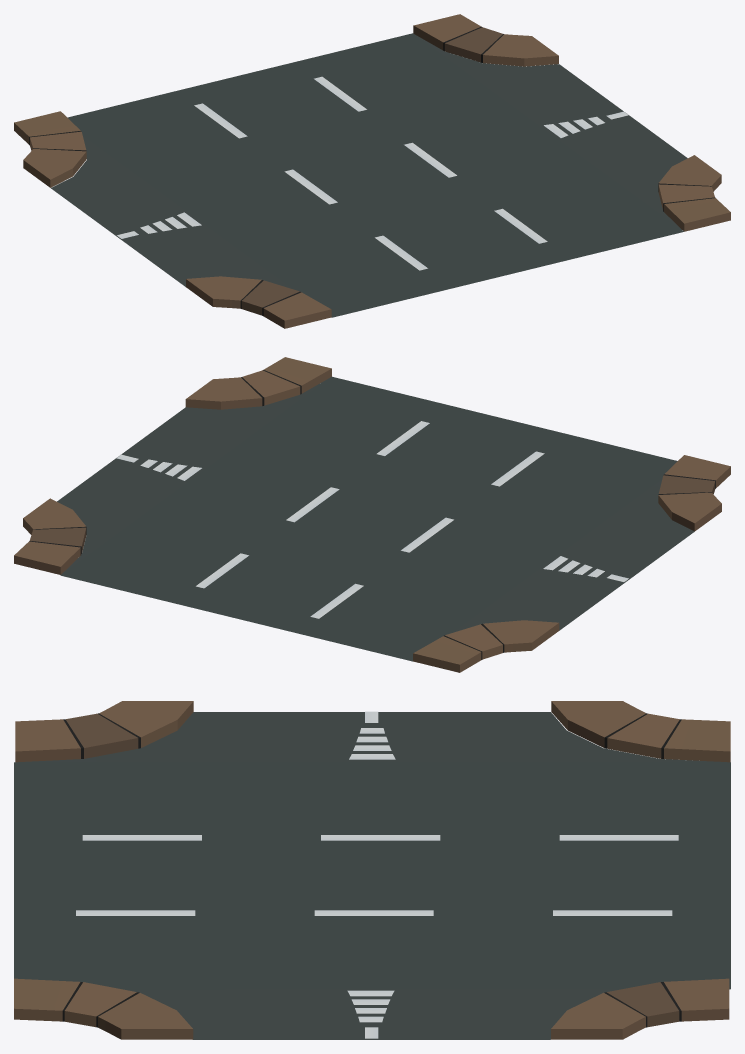
Rendered from Road_1_311.fbx.
3 views of the same model, one above another, from view 1: azimuth 30°, elevation 25°; view 2: azimuth 150°, elevation 25°; view 3: azimuth 270°, elevation 25° (orthographic). The views are drawn at different scales.
Visible parts, largest first — view 1: Road_1_311; view 2: Road_1_311; view 3: Road_1_311.
Boxes of the visible parts, x1,y1,x2,y2 form: Road_1_311: [14, 14, 730, 328]; Road_1_311: [14, 357, 730, 672]; Road_1_311: [14, 701, 730, 1039].
Size of the model in its own units: 1952 by 30 by 1804.
